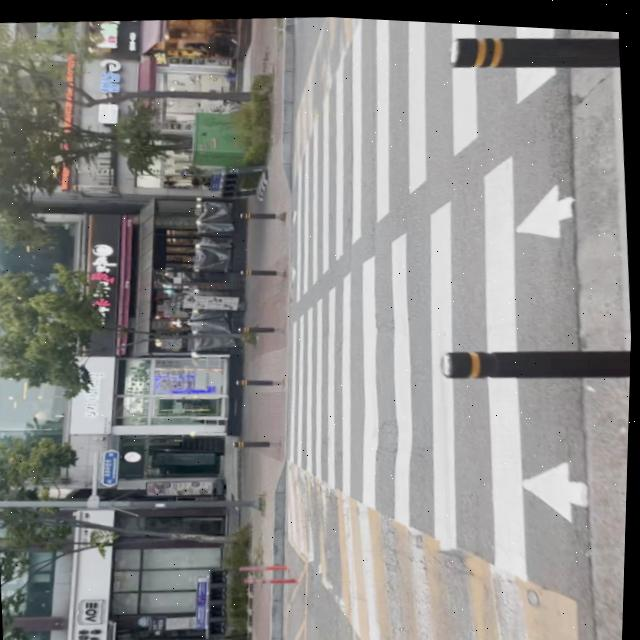crosswalk: (281, 148, 581, 323)
